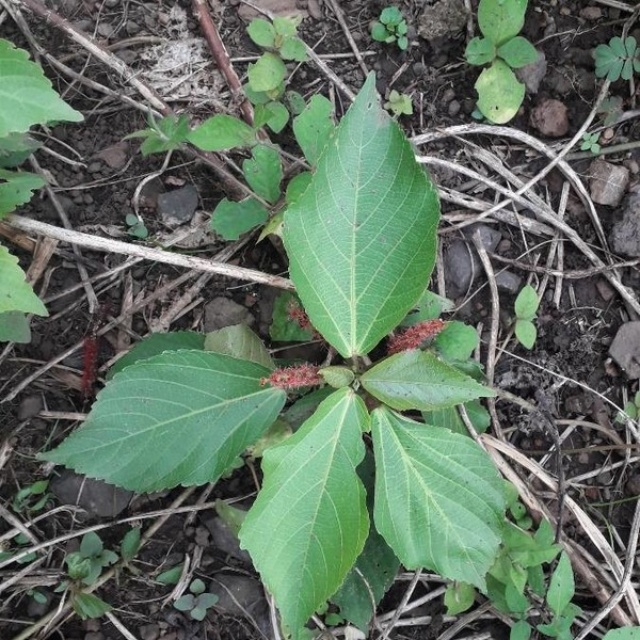obstacle: (83, 79, 555, 589)
